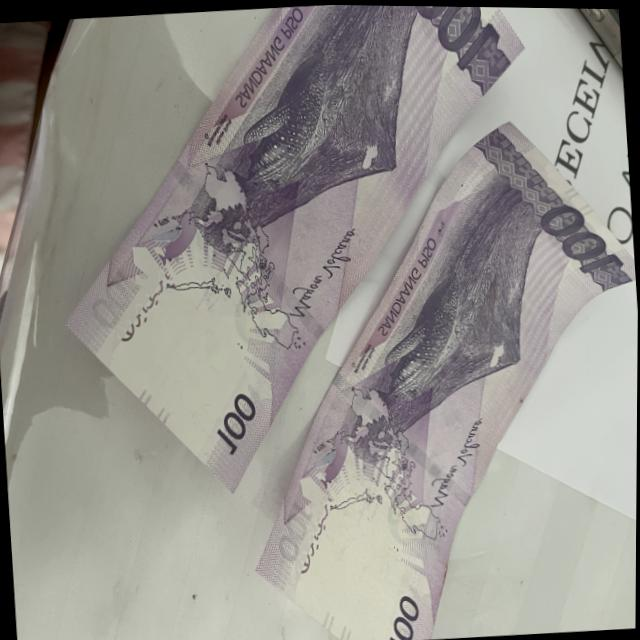100_whale: (215, 34, 339, 206), (350, 265, 472, 427)
100_whale_watermark: (145, 199, 204, 273), (313, 412, 360, 497)
